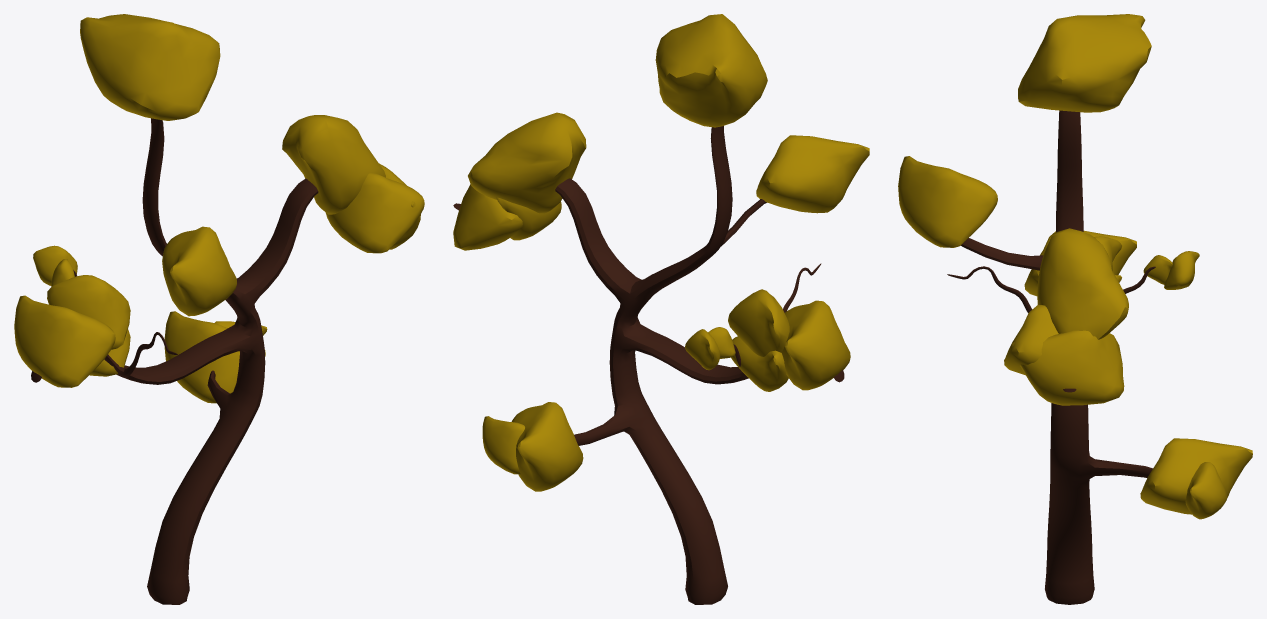
Rendered from Tree 01.fbx.
3 views of the same model, side by side, from view 1: azimuth 30°, elevation 25°; view 2: azimuth 150°, elevation 25°; view 3: azimuth 270°, elevation 25° (orthographic).
Parts seen in each view (by area): view 1: Cube; view 2: Cube; view 3: Cube.
Part boxes in pixels (x1,y1,x2,y2): Cube: (14, 14, 424, 604); Cube: (453, 14, 869, 604); Cube: (898, 14, 1252, 604).
Bounding box in the file's own units: 1666 × 2380 × 1325.
